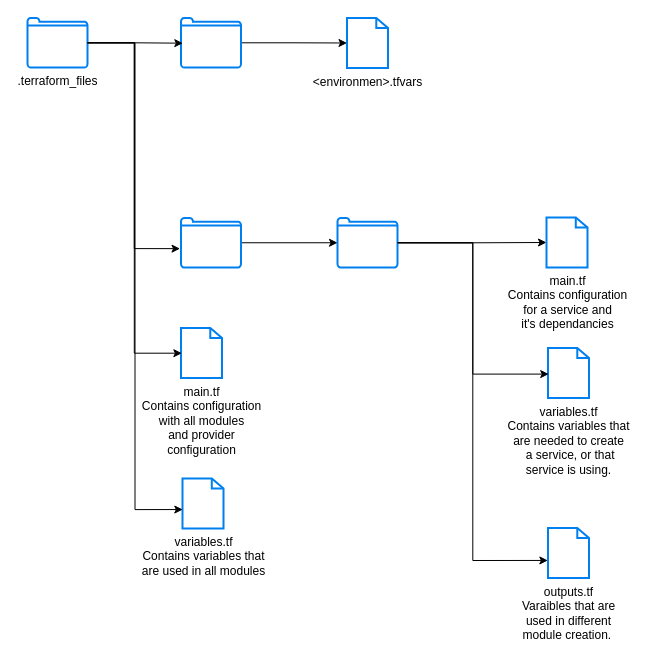
The diagram is 646 pixels wide and 660 high, and some of its shapes have lost their labels. Each missing label, with the centre of its shape:
<AWS Service>: the point at 367,242
environments: the point at 211,42
modules: the point at 211,242
